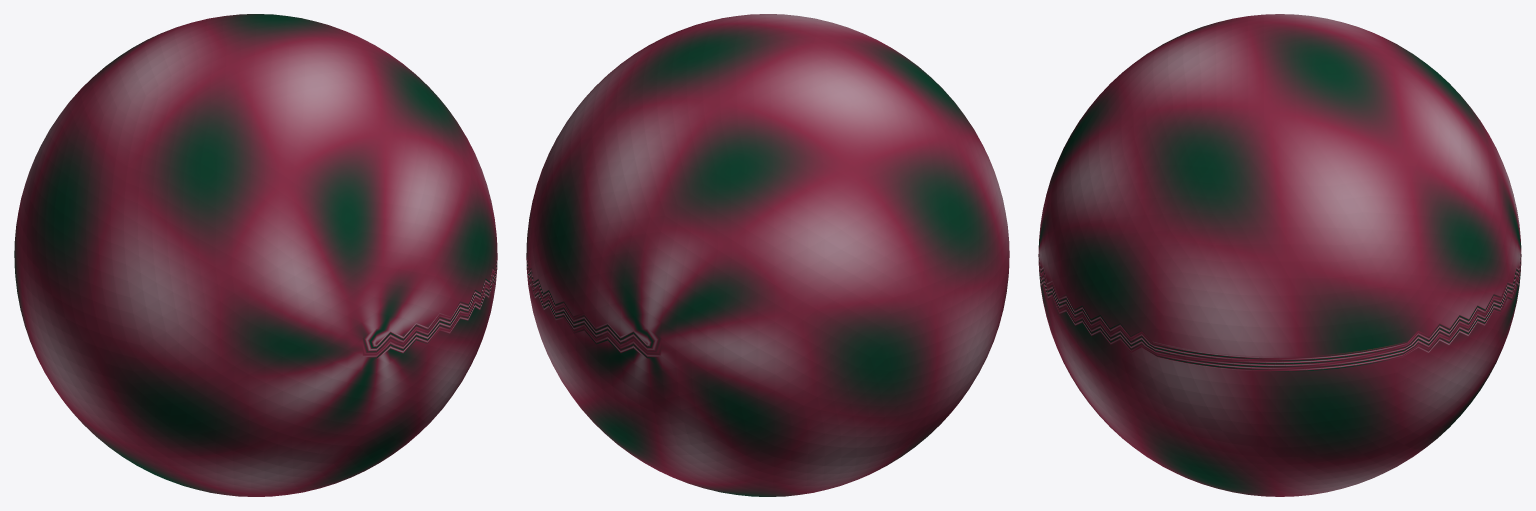
The model's file is sphere-rose-c1.glb.
The picture shows the model from 3 angles, left to right: view 1: azimuth 30°, elevation 25°; view 2: azimuth 150°, elevation 25°; view 3: azimuth 270°, elevation 25°; orthographic projection.
Parts seen in each view (by area): view 1: world; view 2: world; view 3: world.
Boxes of the visible parts, x1,y1,x2,y2 form: world: [14, 14, 497, 496]; world: [526, 14, 1009, 496]; world: [1038, 14, 1521, 496].
Bounding box in the file's own units: 1.2 × 1.2 × 1.2.
Materials: 1 (1 with a texture image).
